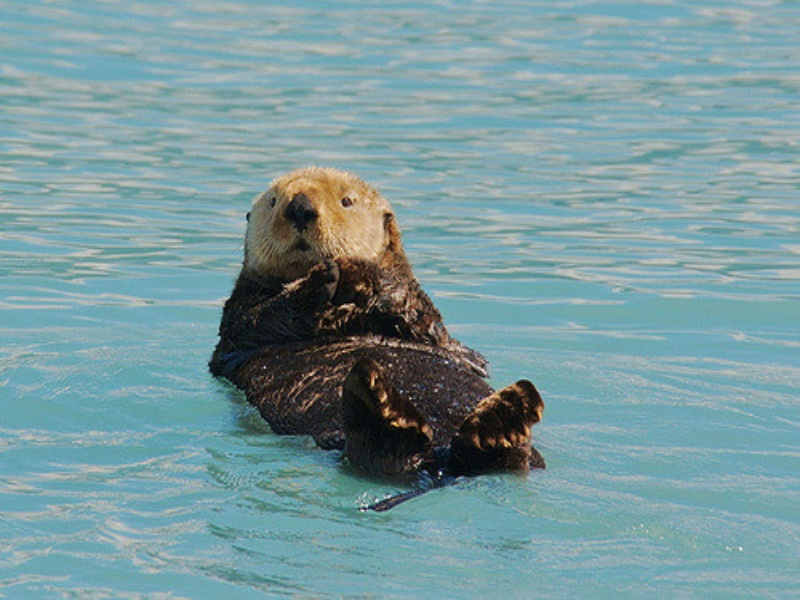minkish: (198, 164, 558, 510)
